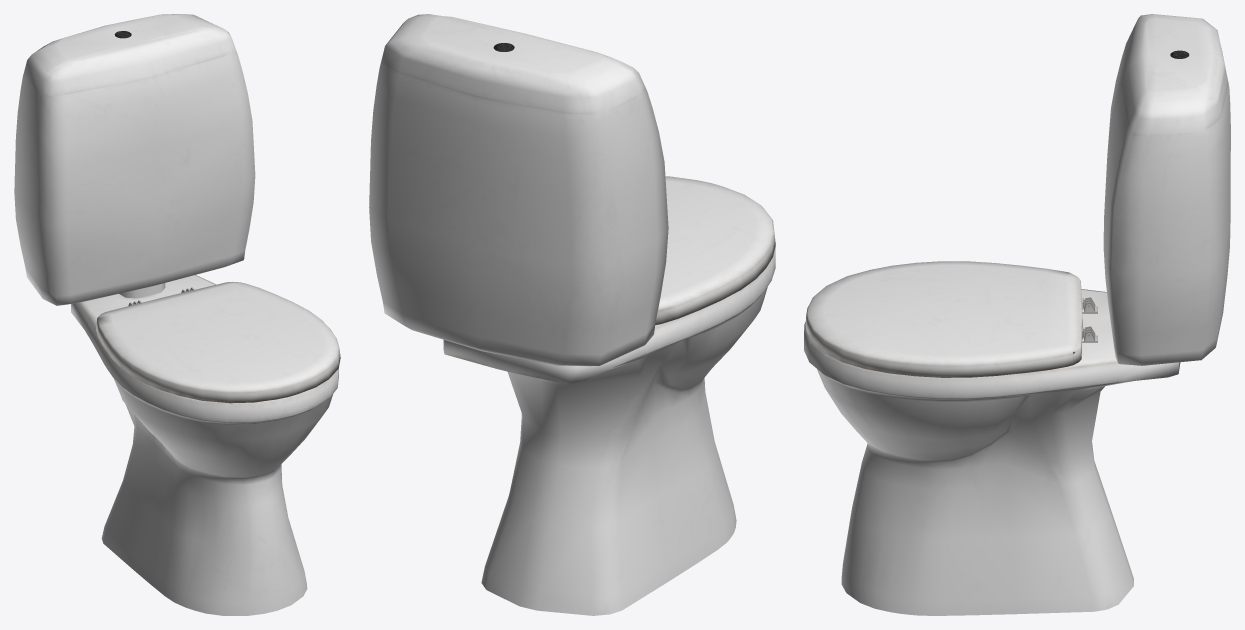
File: toilet.FBX
3 views of the same model, side by side, from view 1: azimuth 30°, elevation 25°; view 2: azimuth 150°, elevation 25°; view 3: azimuth 270°, elevation 25° (orthographic). The views are drawn at different scales.
Visible parts, largest first — view 1: Toilet, Cap; view 2: Toilet, Cap; view 3: Toilet, Cap.
Part boxes in pixels (bbox=[...]): Toilet: bbox=[14, 14, 338, 615]; Cap: bbox=[96, 282, 340, 403]; Toilet: bbox=[369, 14, 775, 615]; Cap: bbox=[655, 176, 775, 325]; Toilet: bbox=[804, 14, 1230, 615]; Cap: bbox=[805, 261, 1092, 377].
Bounding box in the file's own units: 0.4652 × 0.9907 × 0.7259.
